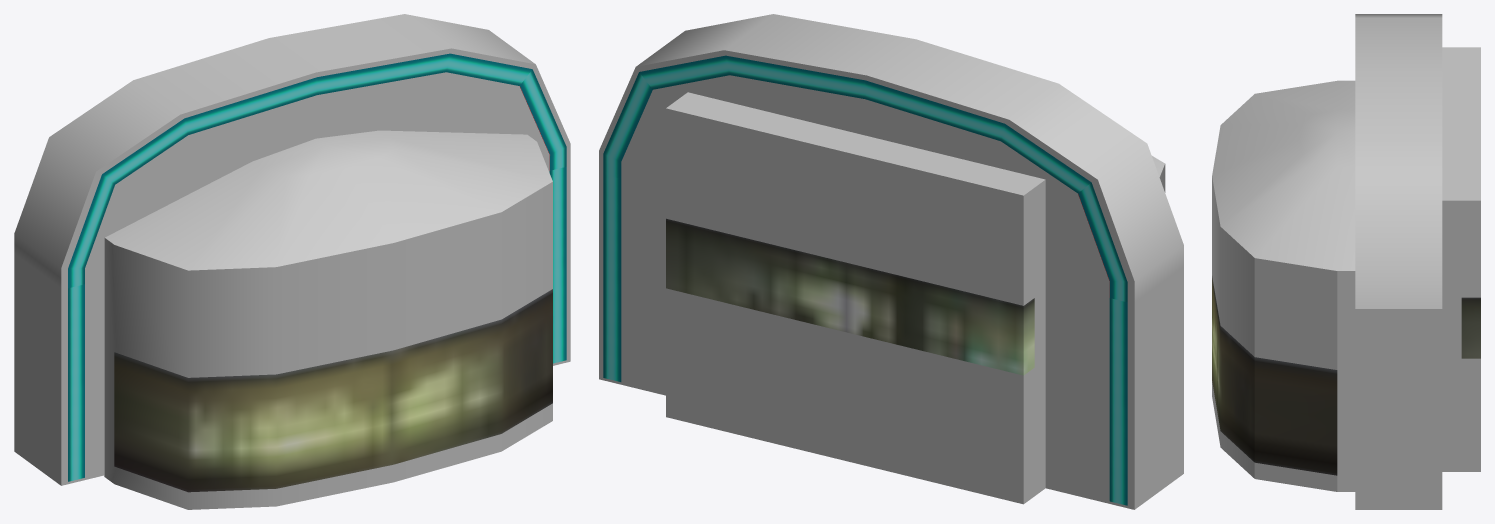
The model's file is hirise_top42a.fbx.
The picture shows the model from 3 angles, left to right: view 1: azimuth 30°, elevation 25°; view 2: azimuth 150°, elevation 25°; view 3: azimuth 270°, elevation 25°; orthographic projection. The views are drawn at different scales.
Visible parts, largest first — view 1: hirise_top42a; view 2: hirise_top42a; view 3: hirise_top42a.
Part boxes in pixels (box(x1,y1,x2,y2)): hirise_top42a: box(14, 14, 570, 509); hirise_top42a: box(599, 14, 1183, 509); hirise_top42a: box(1212, 14, 1480, 509).
Bounding box in the file's own units: 11.28 × 7.47 × 5.59.
